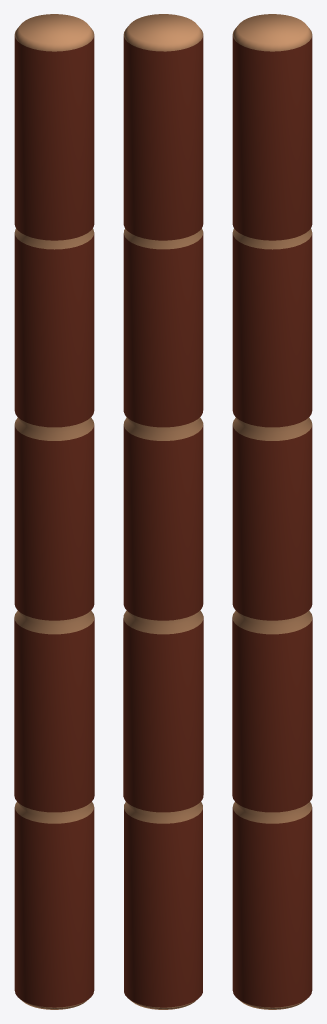
Rendered from SugarCaneSeedling.fbx.
3 renders of one model, left to right at view 1: azimuth 90°, elevation 25°; view 2: azimuth 150°, elevation 25°; view 3: azimuth 270°, elevation 25°, orthographic.
Parts seen in each view (by area): view 1: Cylinder; view 2: Cylinder; view 3: Cylinder.
Part boxes in pixels (<box>): Cylinder: <box>14,14,94,1009</box>; Cylinder: <box>123,14,203,1009</box>; Cylinder: <box>232,14,312,1009</box>.
Bounding box in the file's own units: 15.1 × 200 × 15.1.
